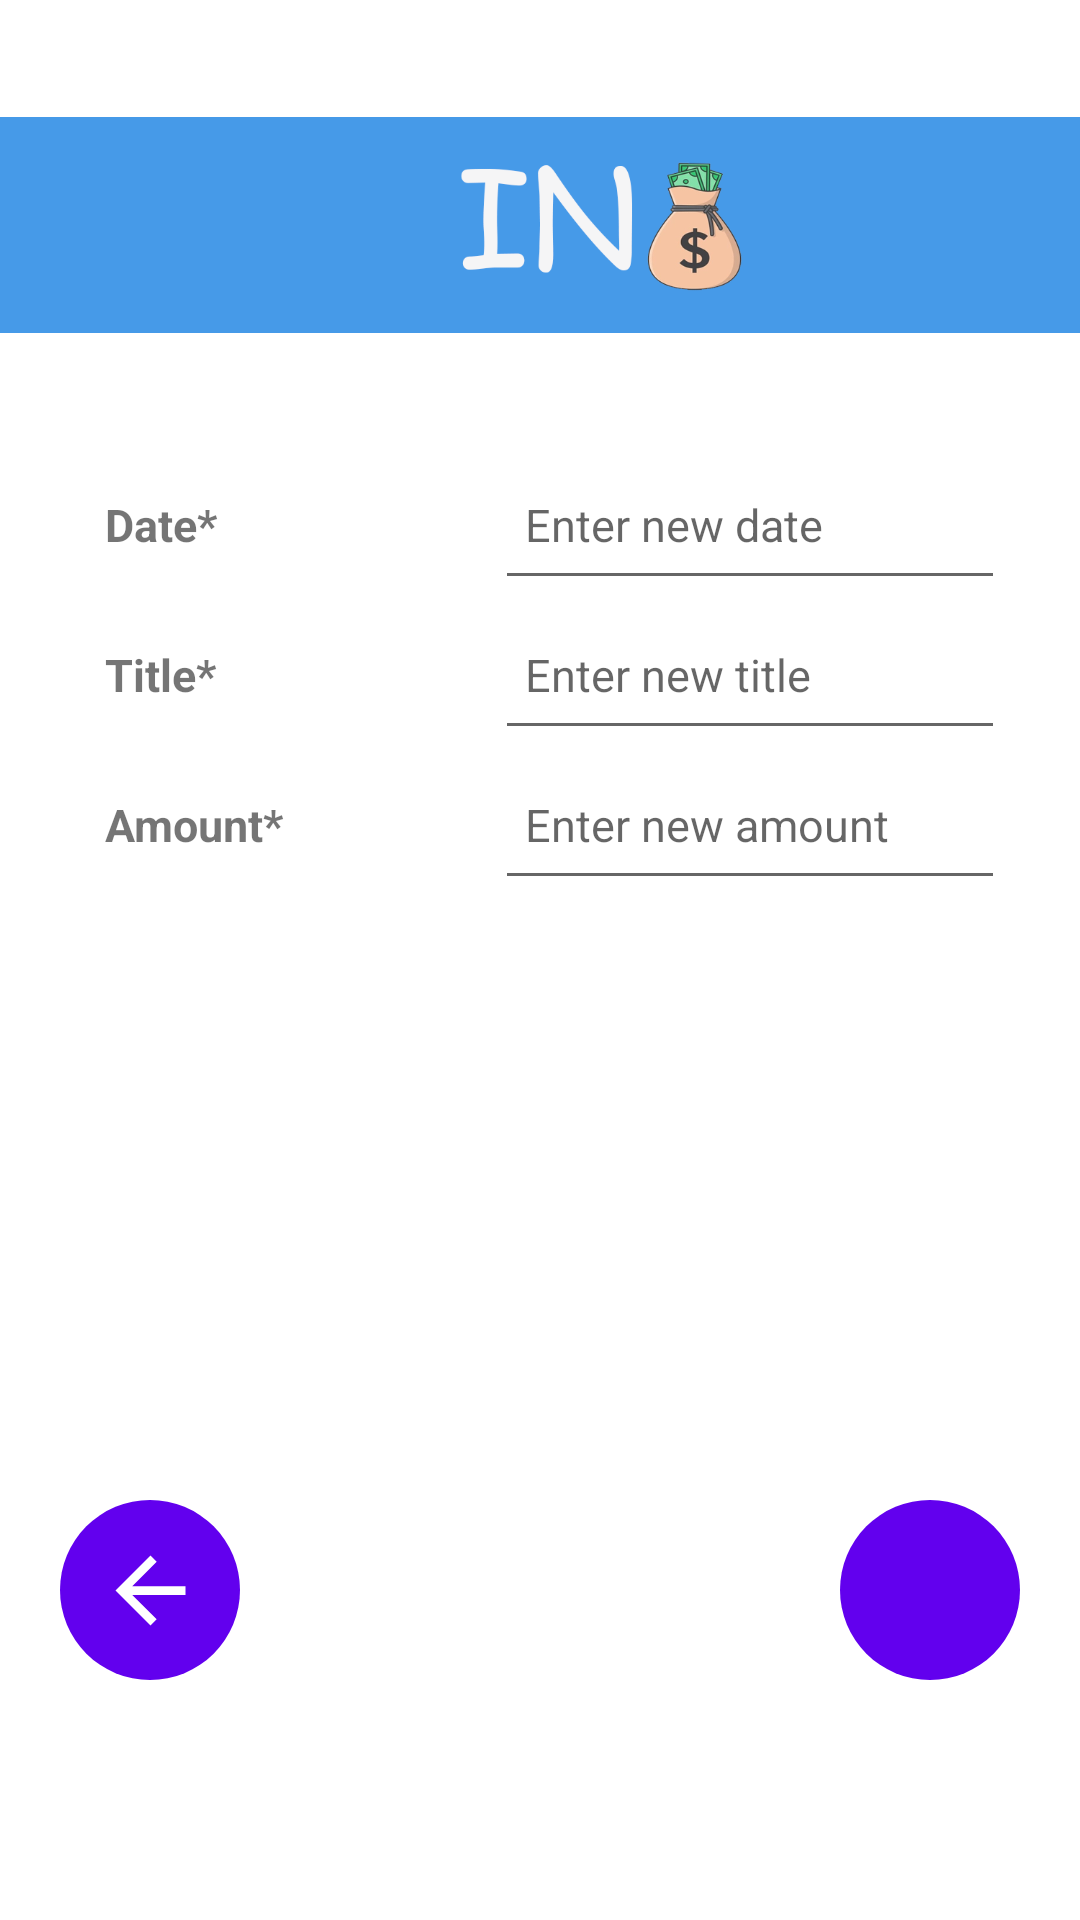

Point at icon controls on the screen. Image size 1080 × 1920, points as (x,y).
arrow back: (150,1590)
